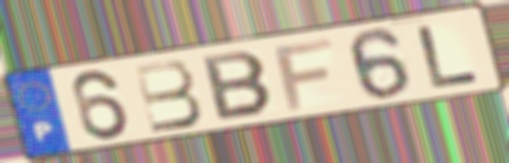6: (345, 27, 413, 102), (69, 68, 131, 143)
B: (130, 57, 207, 135), (198, 48, 278, 123)
F: (271, 36, 337, 114)
L: (413, 22, 484, 91)
